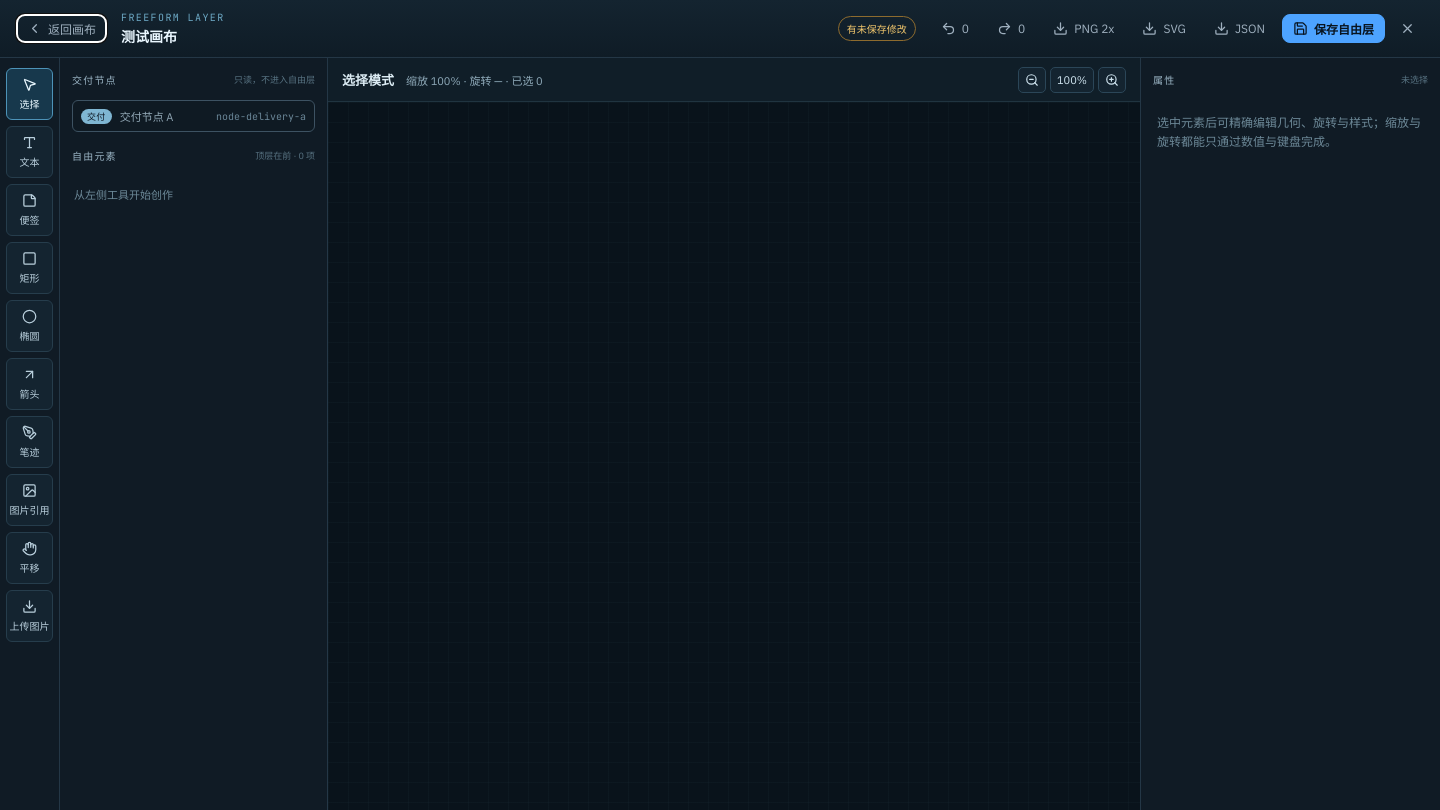
Test: AC1 七类自由元素的创建路径（FT-01..FT-07） › 用 矩形 工具拖拽即可创建一个自由元素
Click the button "矩形".
click(30, 268)  # box [6,242,53,294]
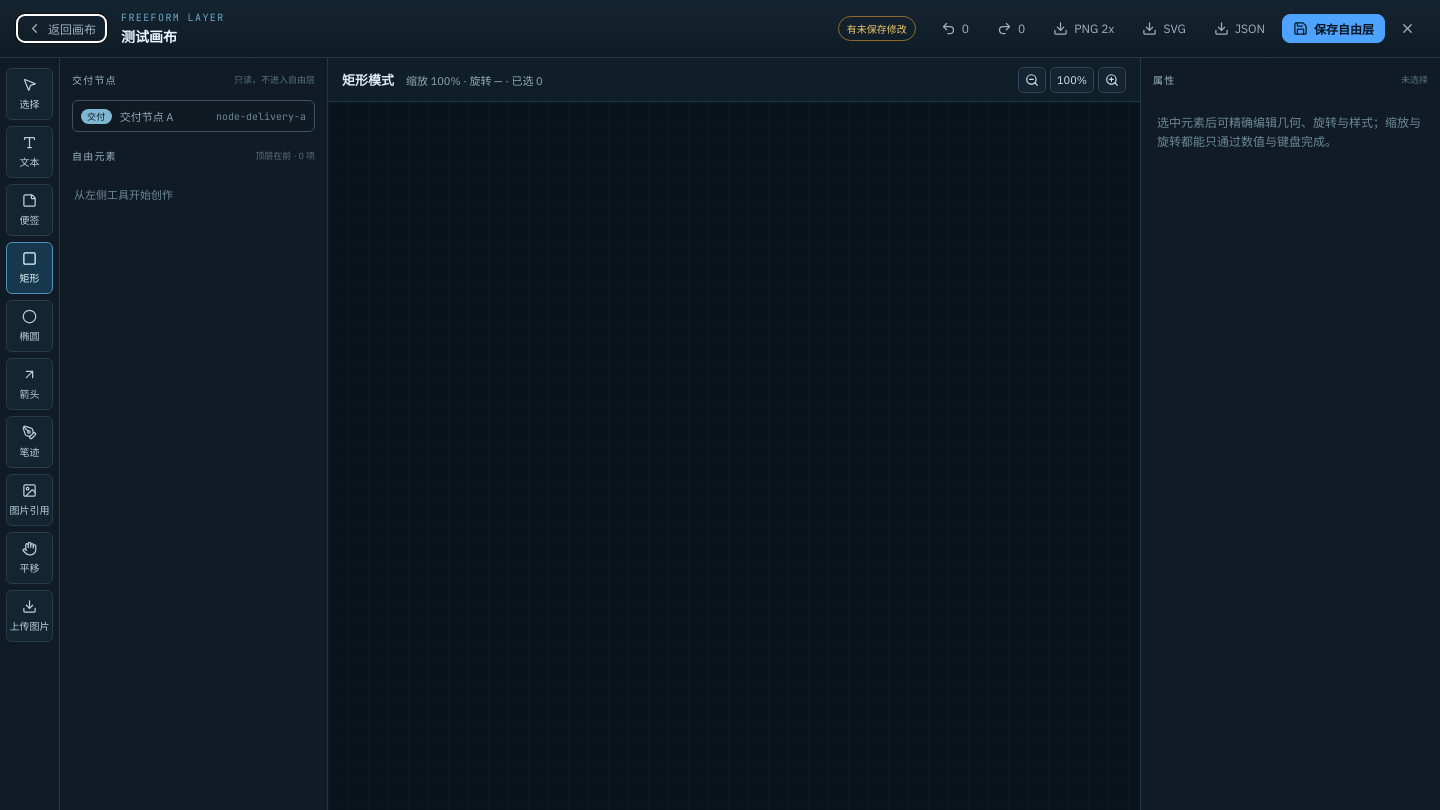
Press the mouse on the element with test id "freeform-viewport" at (734, 456), box [328,102,1140,809]
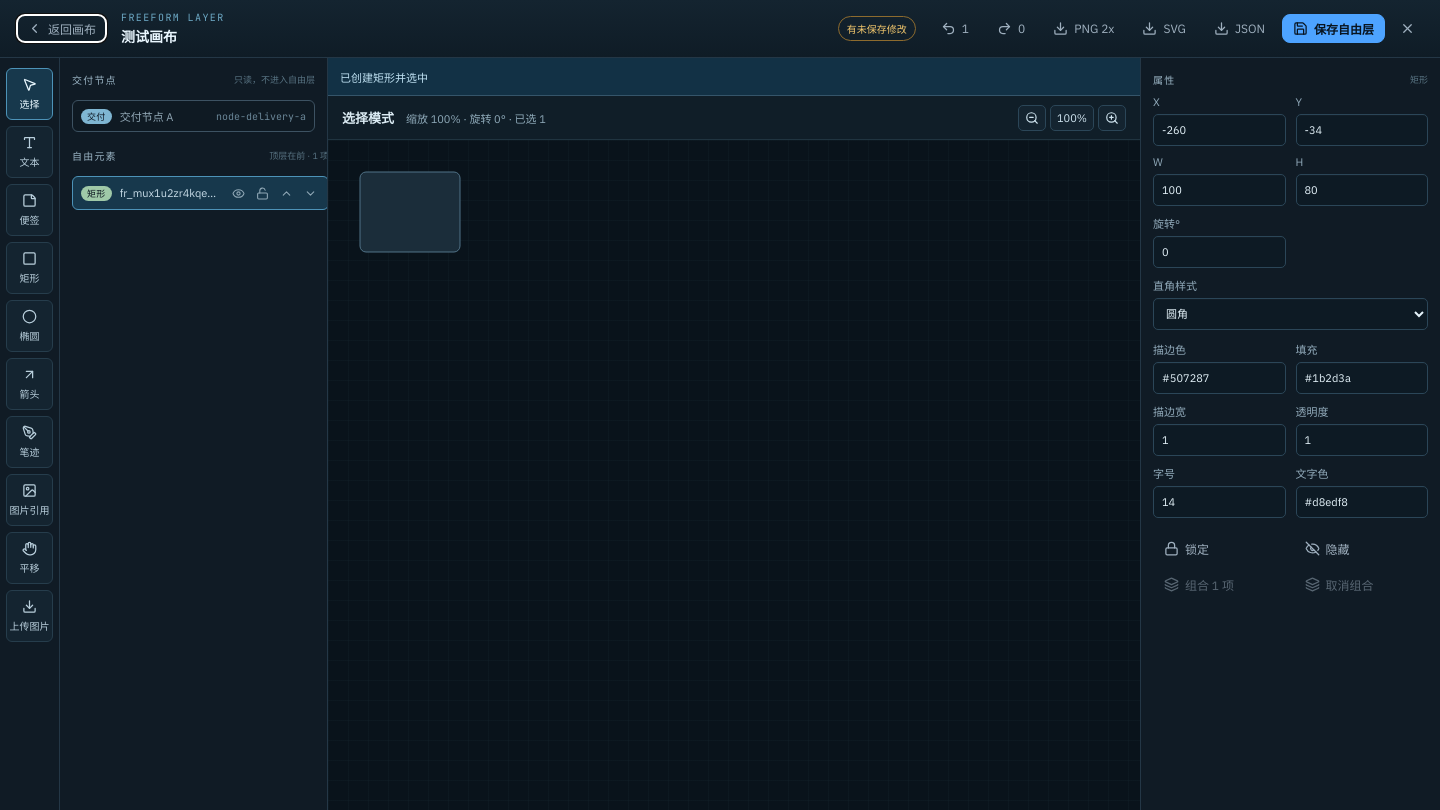
Check: the text with class "freeform-layer-name" shows "fr_", box [120,186,227,200]
Check: the message with class "freeform-status-readout" shows "已选 1", box [406,112,546,126]
